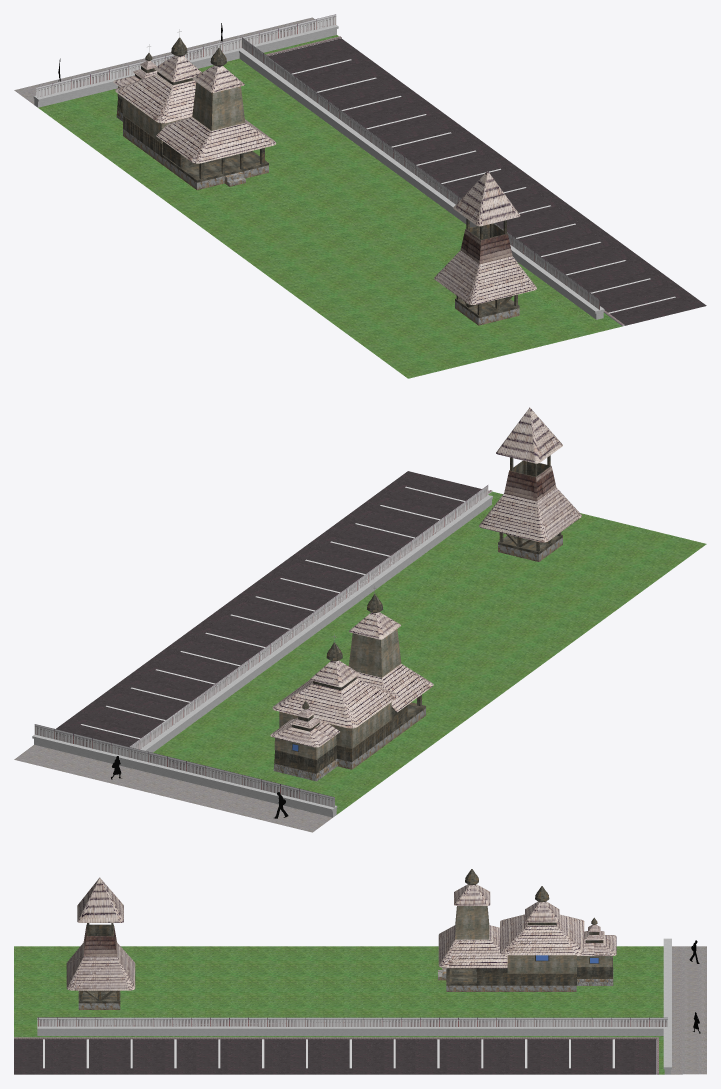
Rendered from Kostolik.glb.
3 renders of one model, top to bottom at view 1: azimuth 30°, elevation 25°; view 2: azimuth 150°, elevation 25°; view 3: azimuth 270°, elevation 25°, orthographic. The views are drawn at different scales.
Visible parts, largest first — view 1: _(Loose Entity), C-Strecha#6, C-Strecha#4, C-Strecha#2, C-Strecha#7, C-Strecha#5, C-Strecha#3; view 2: _(Loose Entity), C-Strecha#2, C-Strecha#6, C-Strecha#7, C-Strecha#4, C-Strecha#5, C-Strecha#3; view 3: _(Loose Entity), C-Strecha#2, C-Strecha#6, C-Strecha#4, C-Strecha#7, C-Strecha#5, C-Strecha#3.
Boxes of the visible parts, x1,y1,x2,y2 form: _(Loose Entity): [14, 14, 706, 378]; C-Strecha#6: [434, 250, 536, 304]; C-Strecha#4: [156, 117, 276, 163]; C-Strecha#2: [115, 73, 196, 123]; C-Strecha#7: [453, 171, 520, 226]; C-Strecha#5: [192, 65, 244, 92]; C-Strecha#3: [154, 55, 201, 82]; _(Loose Entity): [14, 455, 706, 832]; C-Strecha#2: [272, 679, 398, 728]; C-Strecha#6: [479, 487, 581, 542]; C-Strecha#7: [496, 407, 562, 463]; C-Strecha#4: [356, 664, 433, 712]; C-Strecha#5: [349, 612, 401, 639]; C-Strecha#3: [310, 660, 359, 687]; _(Loose Entity): [14, 869, 706, 1074]; C-Strecha#2: [500, 914, 584, 955]; C-Strecha#6: [66, 943, 135, 990]; C-Strecha#4: [438, 925, 507, 968]; C-Strecha#7: [77, 877, 123, 922]; C-Strecha#5: [454, 884, 490, 905]; C-Strecha#3: [525, 901, 559, 922].
Bounding box in the file's own units: 14.59 × 6.55 × 33.2.
Materials: 22 (18 with a texture image).
